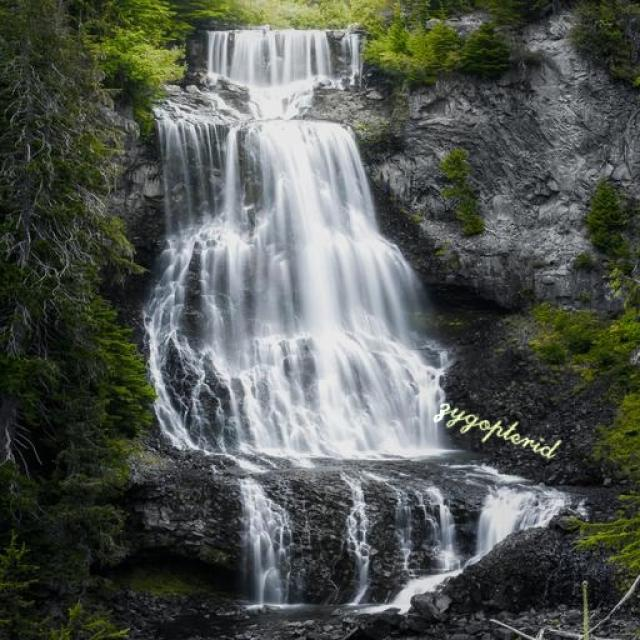watermark: (431, 387, 574, 464)
